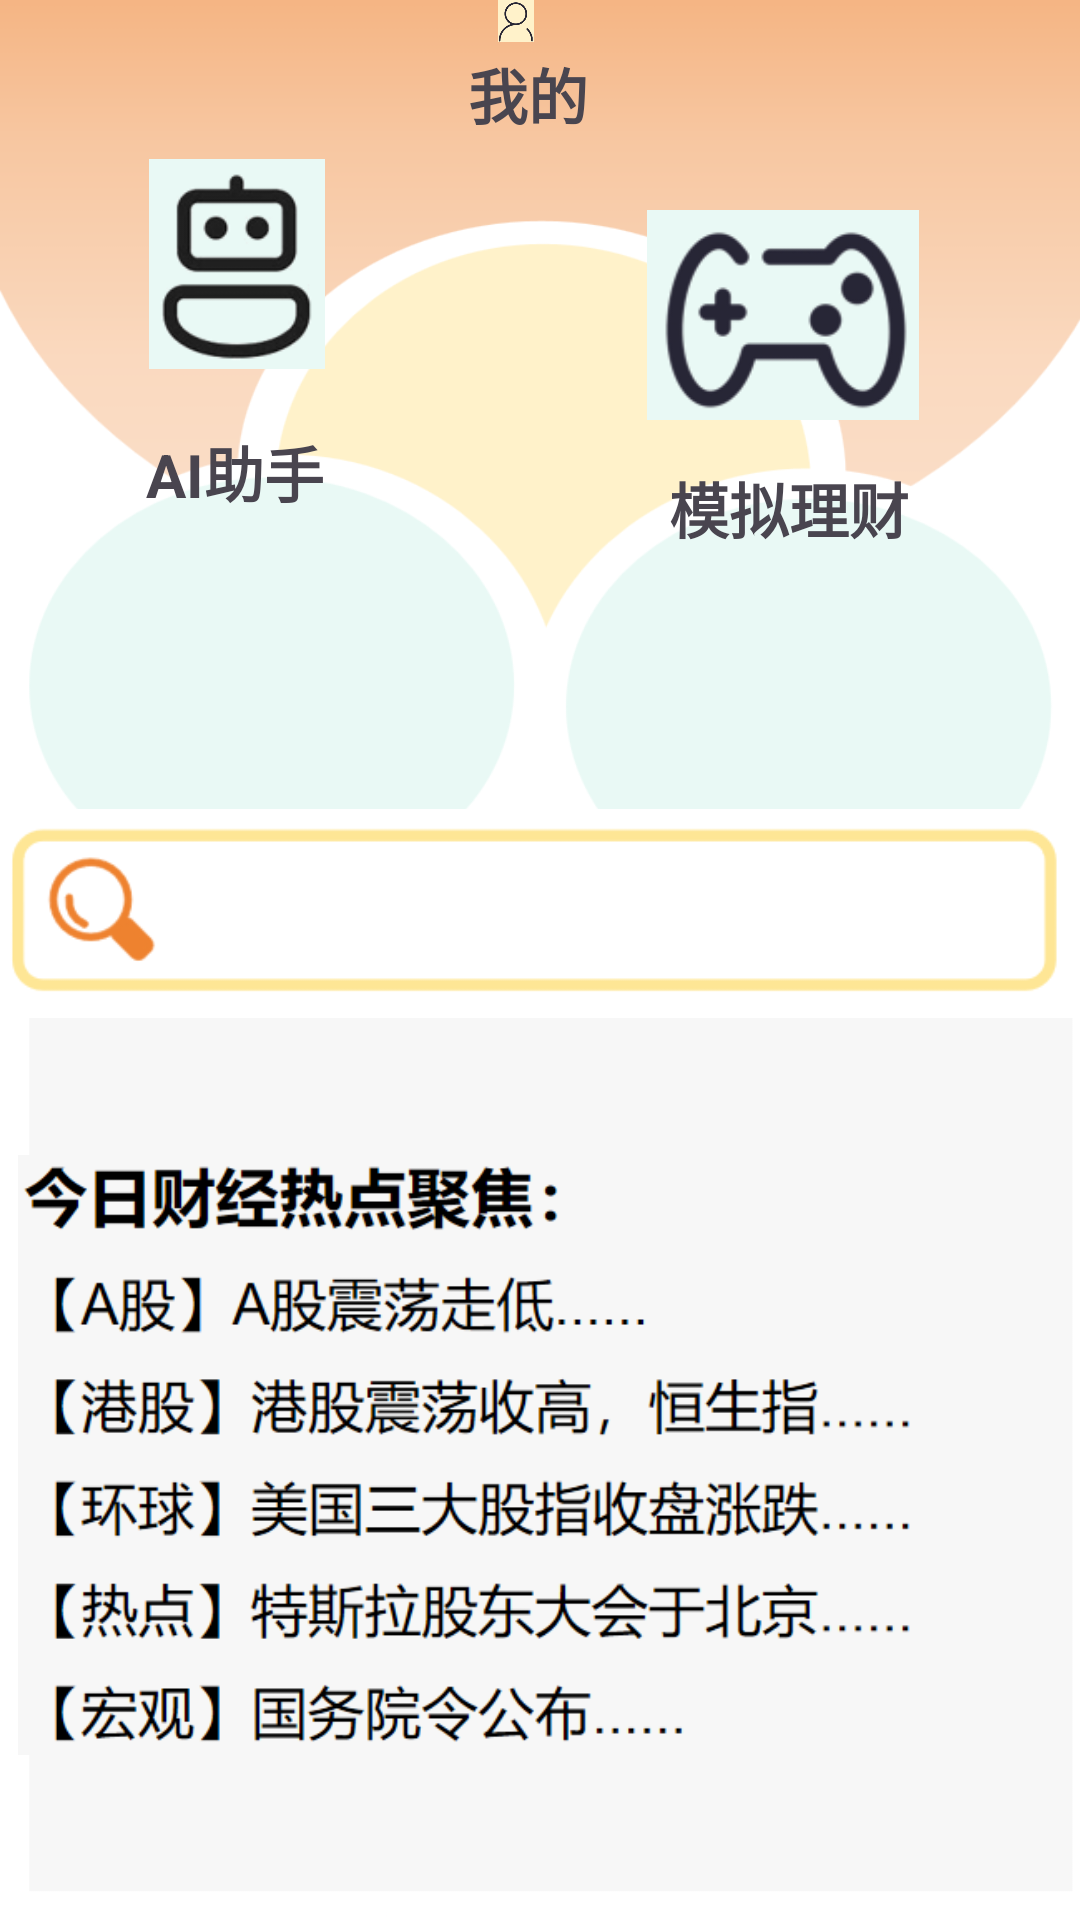

Icon click points for this 1080 x 1920 phone screenshot, format (x=x, y=y):
bot: (x=237, y=264)
game: (x=783, y=315)
